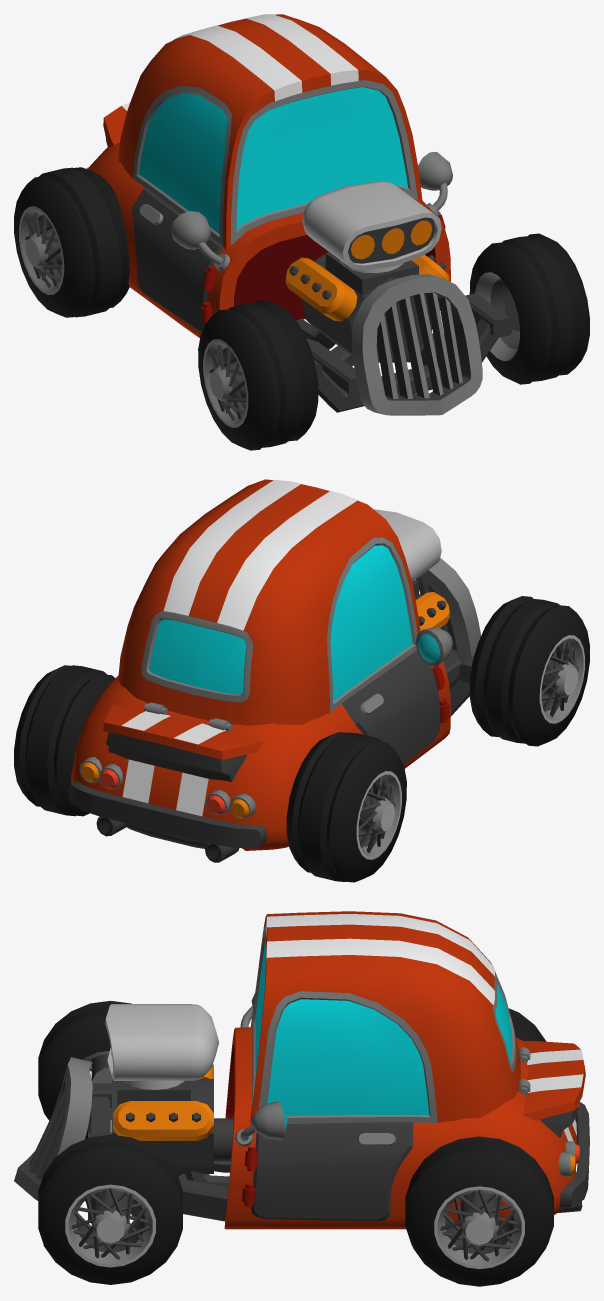
The model's file is VEH1-B.fbx.
3 renders of one model, top to bottom at view 1: azimuth 30°, elevation 25°; view 2: azimuth 150°, elevation 25°; view 3: azimuth 270°, elevation 25°, orthographic.
Parts seen in each view (by area): view 1: VEH1_B, V1B_Wheel_FR, V1B_Wheel_BR, V1B_Wheel_FL; view 2: VEH1_B, V1B_Wheel_BR, V1B_Wheel_FR, V1B_Wheel_BL; view 3: VEH1_B, V1B_Wheel_BL, V1B_Wheel_FL, V1B_Wheel_FR, V1B_Wheel_BR.
Boxes of the visible parts, x1,y1,x2,y2 form: VEH1_B: (86,14,512,415); V1B_Wheel_FR: (198,300,318,450); V1B_Wheel_BR: (14,167,129,317); V1B_Wheel_FL: (469,233,589,384); VEH1_B: (68,479,480,862); V1B_Wheel_BR: (286,732,406,882); V1B_Wheel_FR: (469,596,589,746); V1B_Wheel_BL: (14,665,115,816); VEH1_B: (14,911,589,1229); V1B_Wheel_BL: (405,1136,553,1286); V1B_Wheel_FL: (38,1134,182,1284); V1B_Wheel_FR: (38,1000,131,1139); V1B_Wheel_BR: (508,1008,546,1041).
Size of the model in its own units: 254 by 191 by 354.
Materials: 1 (1 with a texture image).
